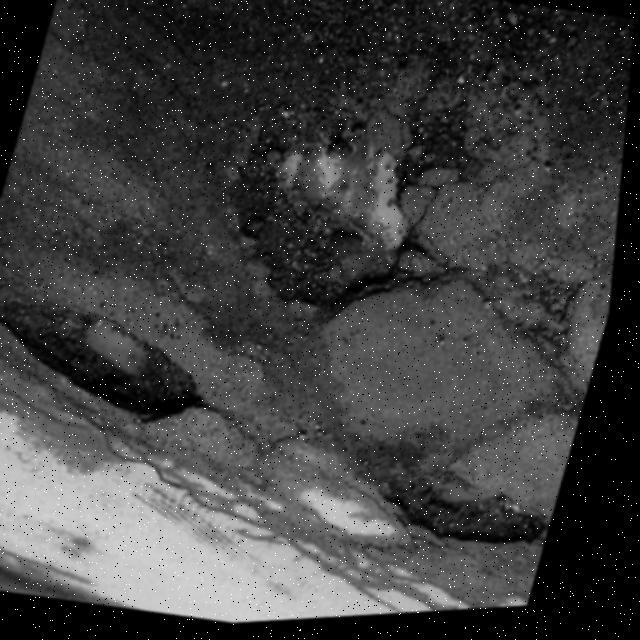pothole: (230, 116, 464, 332), (0, 271, 233, 448), (378, 454, 574, 576)
